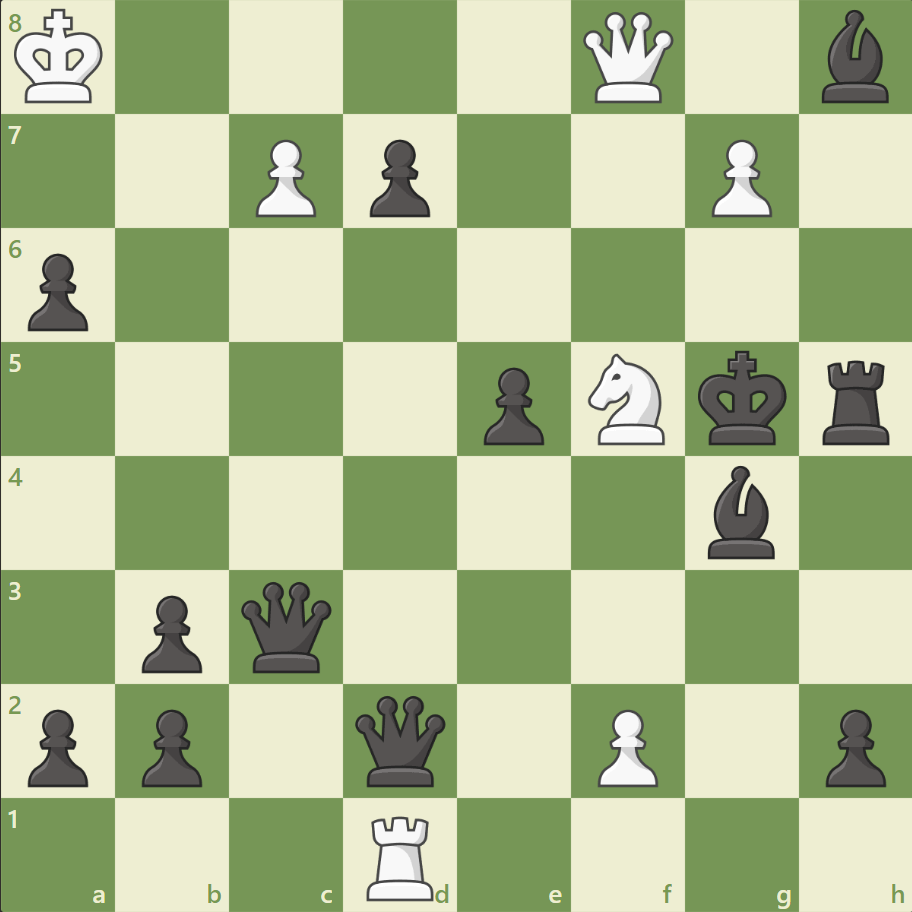K: (11, 4, 111, 112)
N: (579, 348, 676, 450)
P: (247, 132, 322, 223), (701, 132, 776, 223), (588, 700, 662, 791)
Q: (578, 9, 677, 108)
R: (360, 806, 442, 904)
b: (812, 6, 896, 109), (698, 460, 782, 563)
k: (692, 344, 792, 452)
p: (20, 246, 95, 337), (474, 359, 549, 450), (133, 586, 208, 677), (20, 700, 95, 791), (133, 700, 208, 791), (361, 132, 435, 223), (815, 700, 889, 791)
q: (237, 576, 336, 676), (351, 690, 450, 789)
r: (814, 352, 897, 449)
